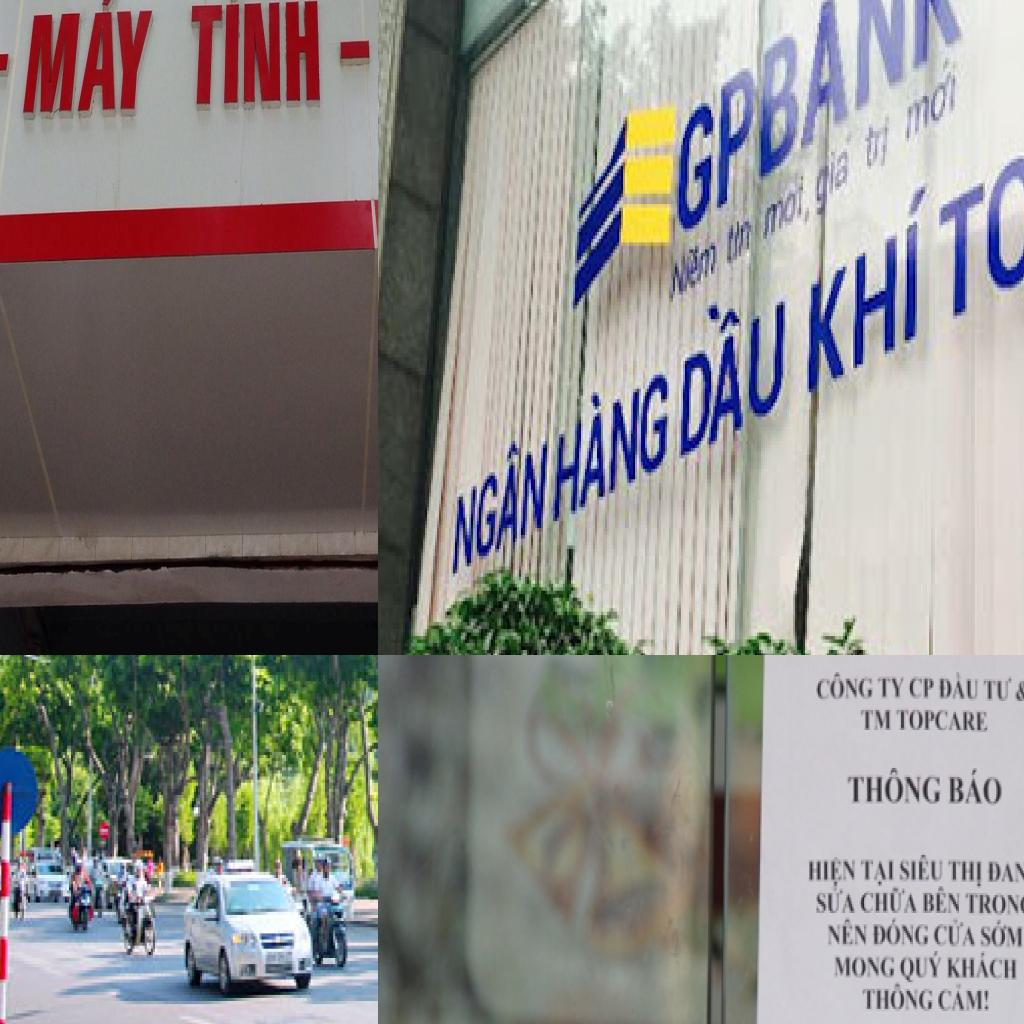text: (679, 0, 979, 245), (801, 166, 933, 413), (935, 12, 1024, 340), (675, 253, 793, 472), (555, 340, 671, 532), (447, 410, 555, 587), (19, 0, 160, 126), (185, 0, 323, 115), (525, 655, 651, 732), (903, 44, 967, 152), (665, 222, 721, 316), (759, 159, 813, 253), (815, 124, 861, 225), (846, 766, 943, 808), (861, 103, 895, 183), (895, 708, 990, 736), (947, 768, 1005, 810), (860, 982, 935, 1013), (946, 951, 1020, 982), (725, 204, 757, 274), (858, 886, 920, 918), (816, 672, 874, 705), (936, 982, 992, 1016), (870, 918, 931, 948), (963, 890, 1024, 919), (900, 948, 946, 986), (808, 855, 860, 888), (834, 955, 897, 982), (335, 33, 376, 72), (934, 917, 980, 951), (898, 853, 946, 884), (980, 917, 1024, 950), (938, 670, 981, 703), (920, 884, 962, 917), (815, 886, 858, 918), (947, 857, 984, 891), (827, 918, 868, 948), (861, 858, 897, 888), (987, 859, 1024, 888), (983, 676, 1015, 706), (860, 708, 894, 734), (877, 676, 907, 704), (908, 676, 936, 704), (0, 44, 13, 88), (1015, 678, 1024, 705)
